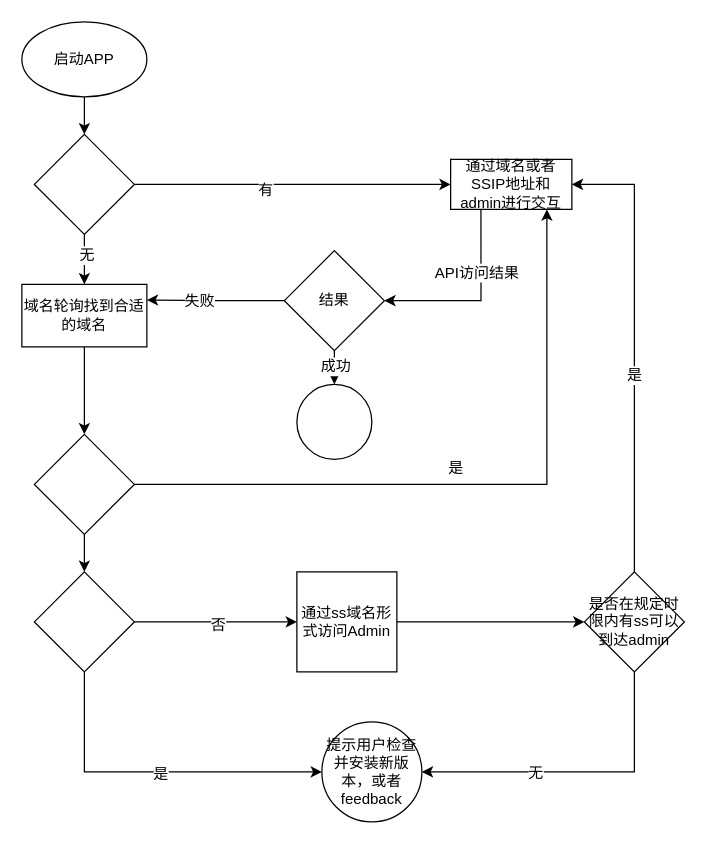
Some shapes in this 706 by 844 pixel diagram are drawn without their labels. The centre of each missing label's shape, as x and y in pixels:
"当前域名是否来至SS" belongs at point 83,621.
"执行其他业务逻辑" belongs at point 334,421.
"是否存在域名可以访问到admin" belongs at point 83,483.
"有无存在的Admin访问域名" belongs at point 83,183.
